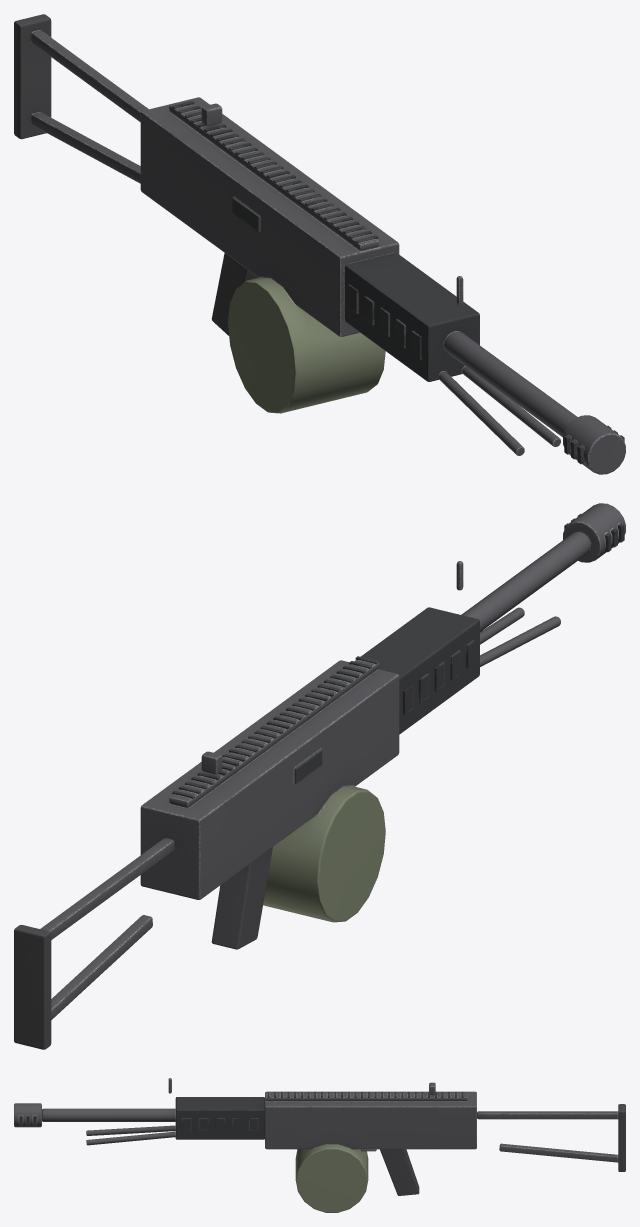
The model's file is negev.fbx.
The picture shows the model from 3 angles, top to bottom: view 1: azimuth 30°, elevation 25°; view 2: azimuth 150°, elevation 25°; view 3: azimuth 270°, elevation 25°; orthographic projection. The views are drawn at different scales.
Parts seen in each view (by area): view 1: negev; view 2: negev; view 3: negev.
Part boxes in pixels (<box>): negev: <box>14,14,625,474</box>; negev: <box>14,503,625,1049</box>; negev: <box>14,1078,625,1212</box>.
Bounding box in the file's own units: 0.1 × 0.2441 × 1.1.
